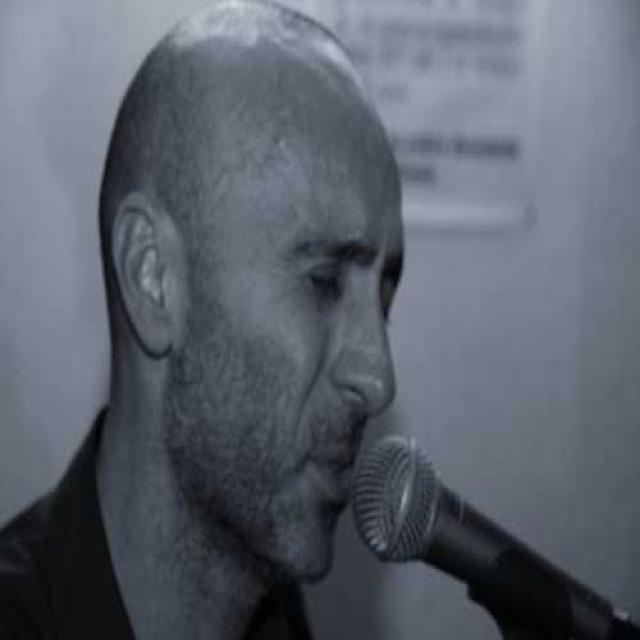microphone: (346, 426, 632, 640)
